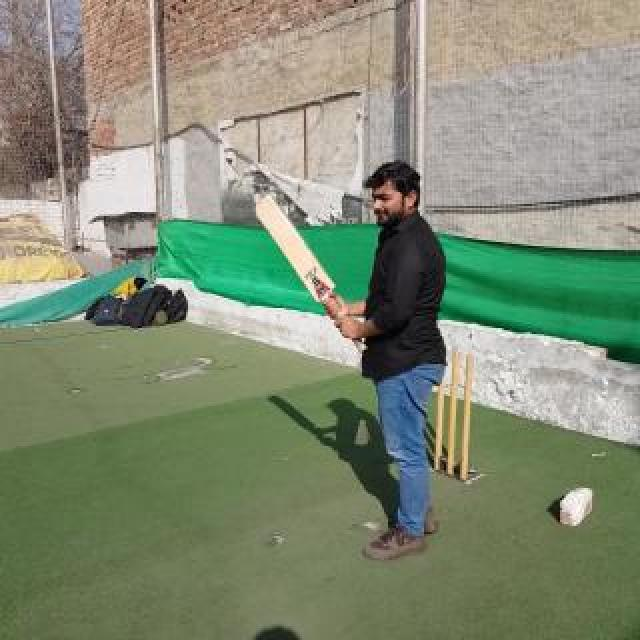bat: (255, 194, 367, 354)
